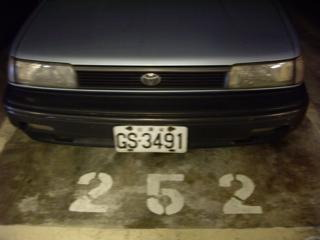plate: (112, 122, 189, 155)
